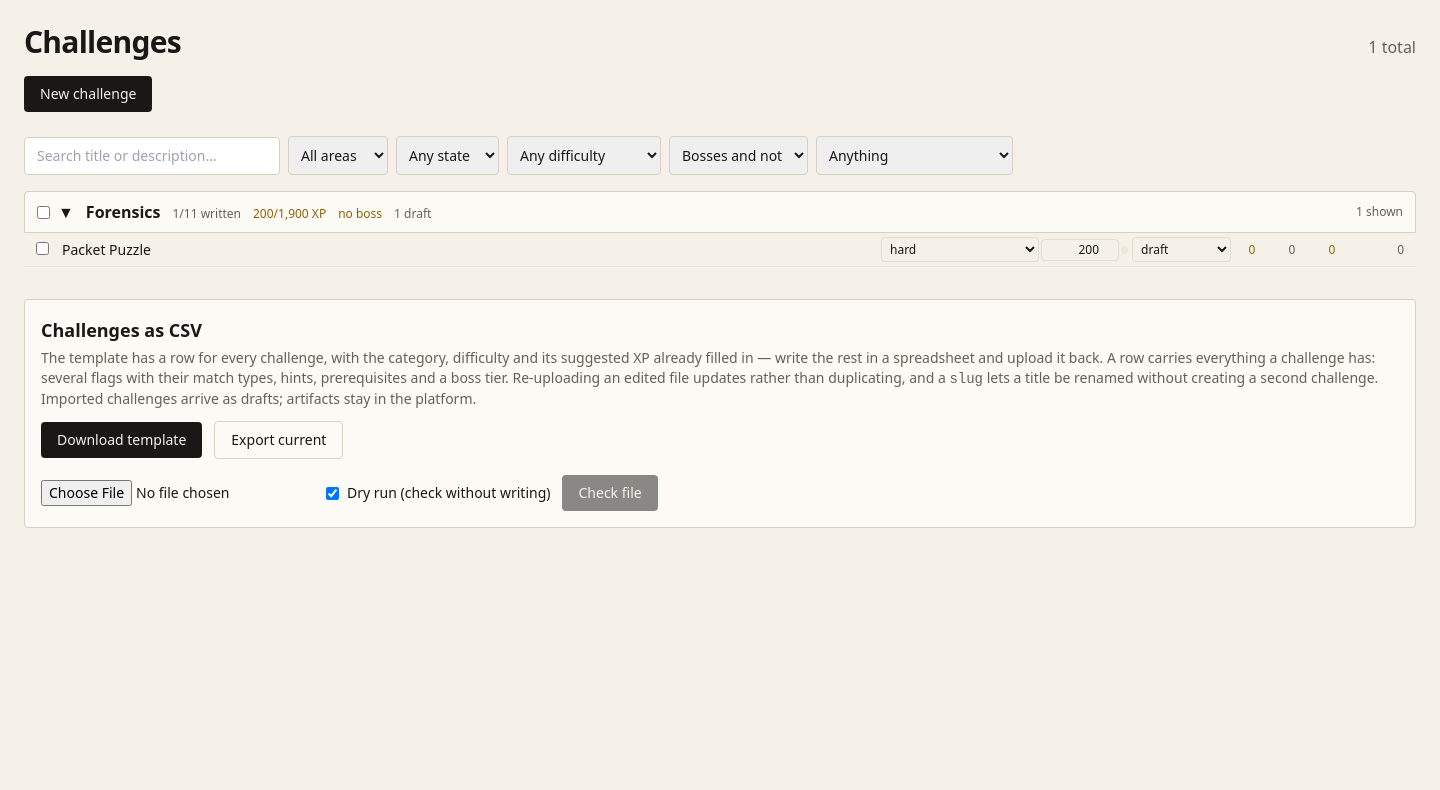
deleting a challenge › asks first, naming the challenge
Click the button "Packet Puzzle": (106, 250) [62,240,151,260]
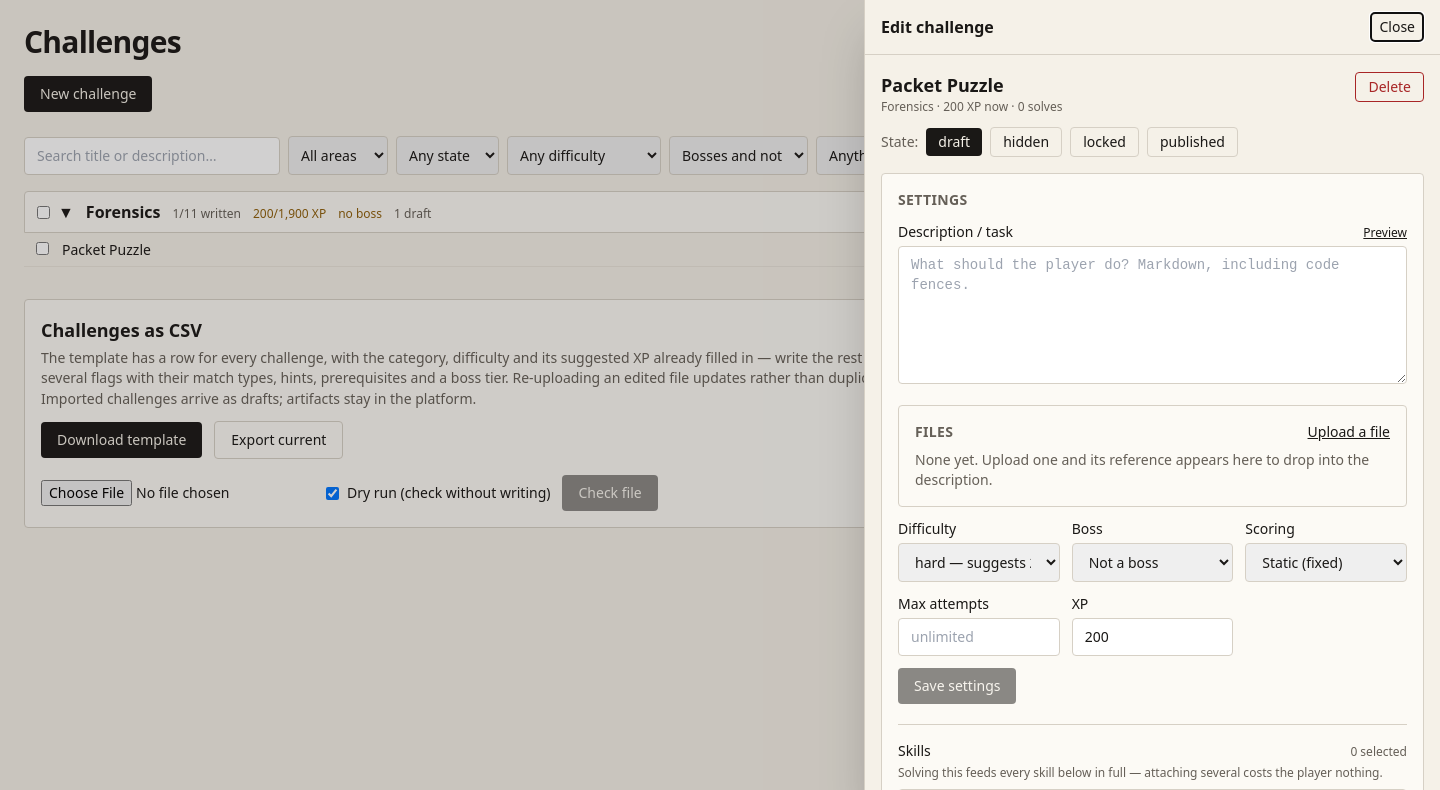
Click the button "Delete": (1390, 87) [1355,72,1424,102]
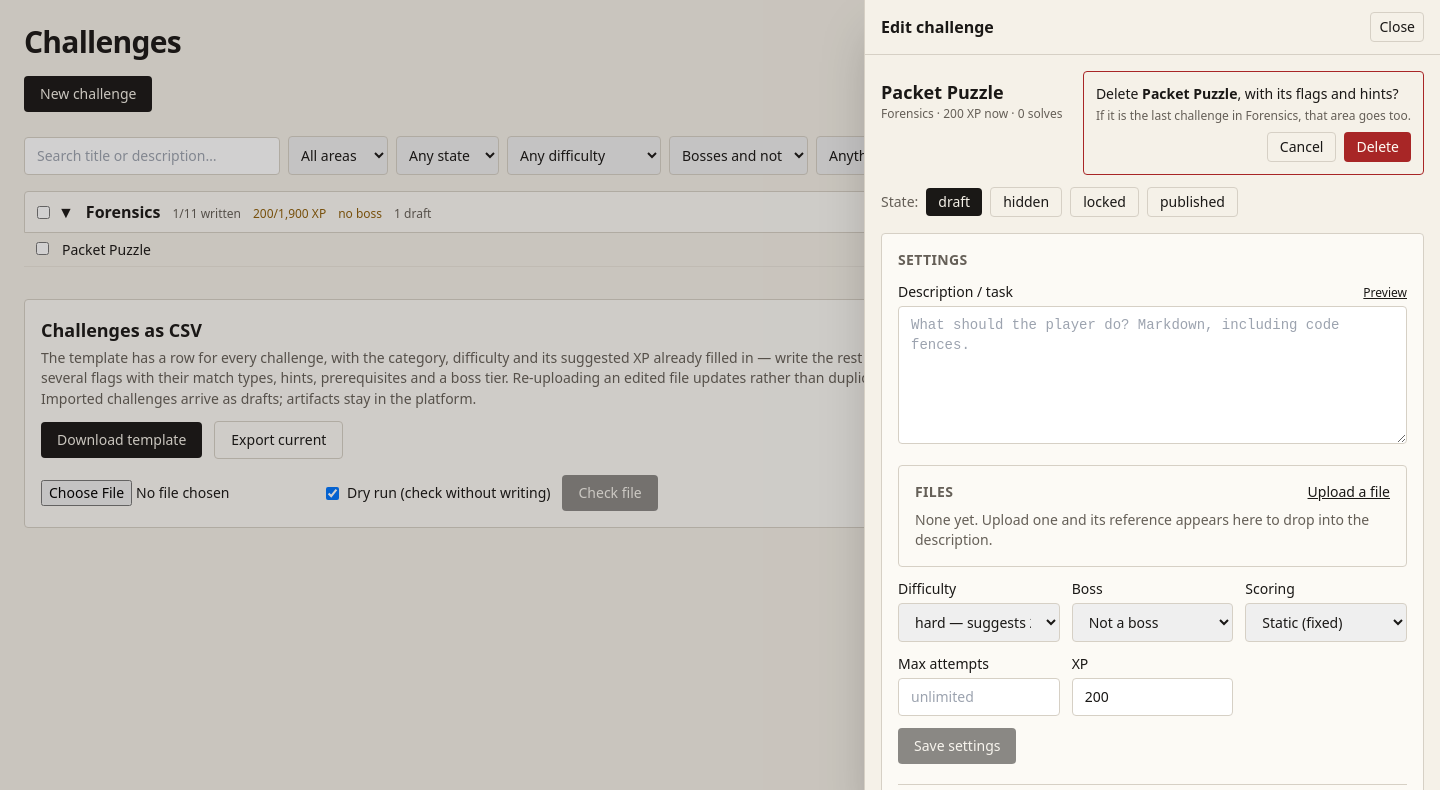
Expected: the text "Packet Puzzle" is shown, [1142,84,1237,103]
